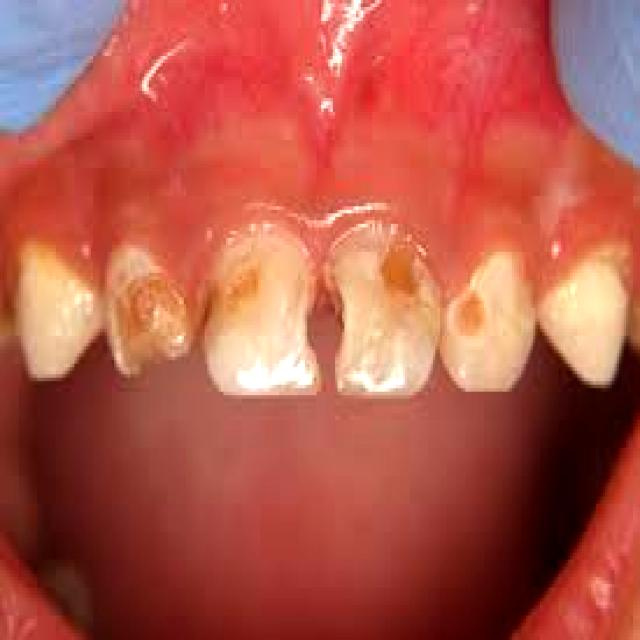cariess: (107, 245, 191, 374), (451, 294, 484, 336), (382, 245, 412, 290)
